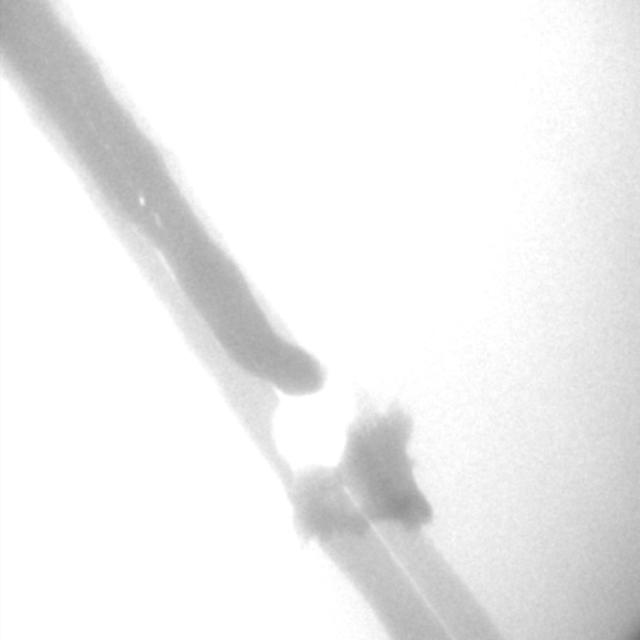air hole: (139, 196, 145, 205)
broken arc: (158, 251, 453, 636)
